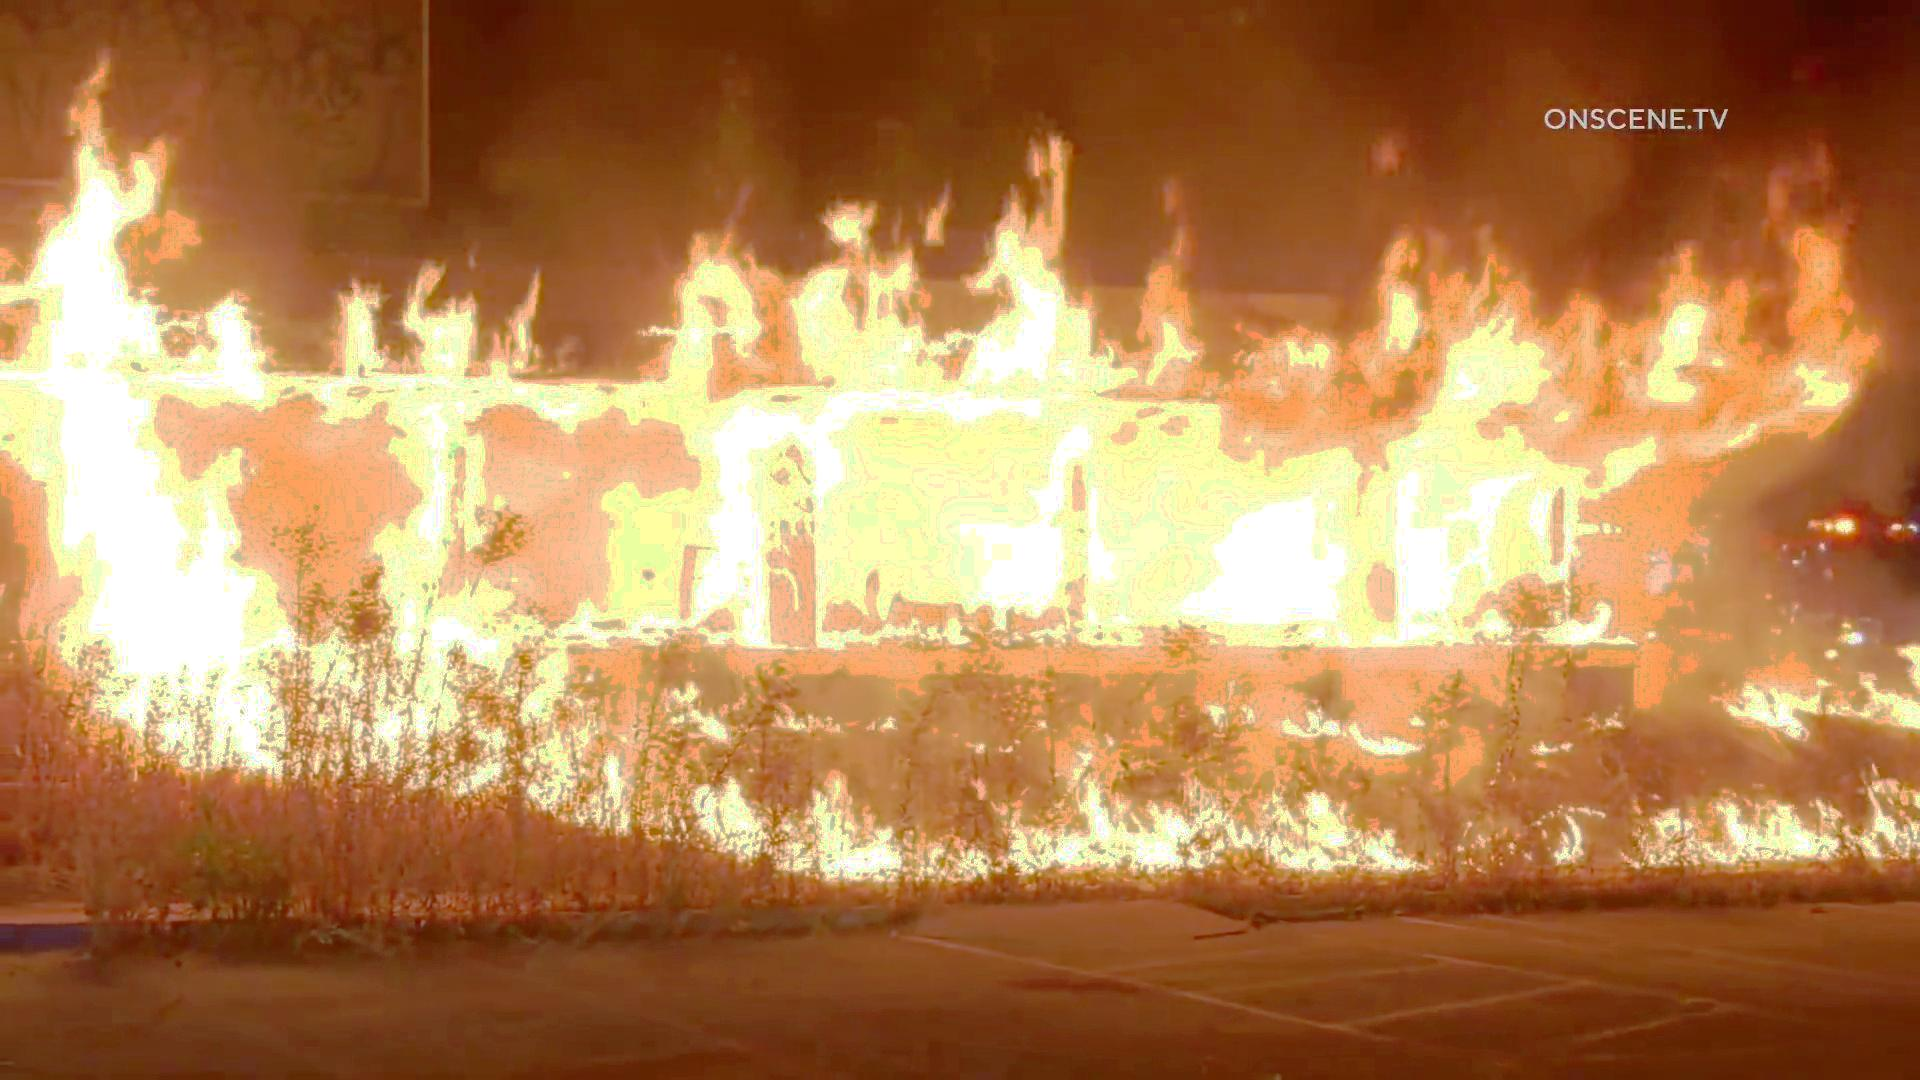fire: (8, 146, 1911, 868), (256, 175, 575, 765), (633, 166, 1267, 447), (1, 158, 253, 777), (1531, 181, 1844, 649), (1267, 161, 1538, 684)
